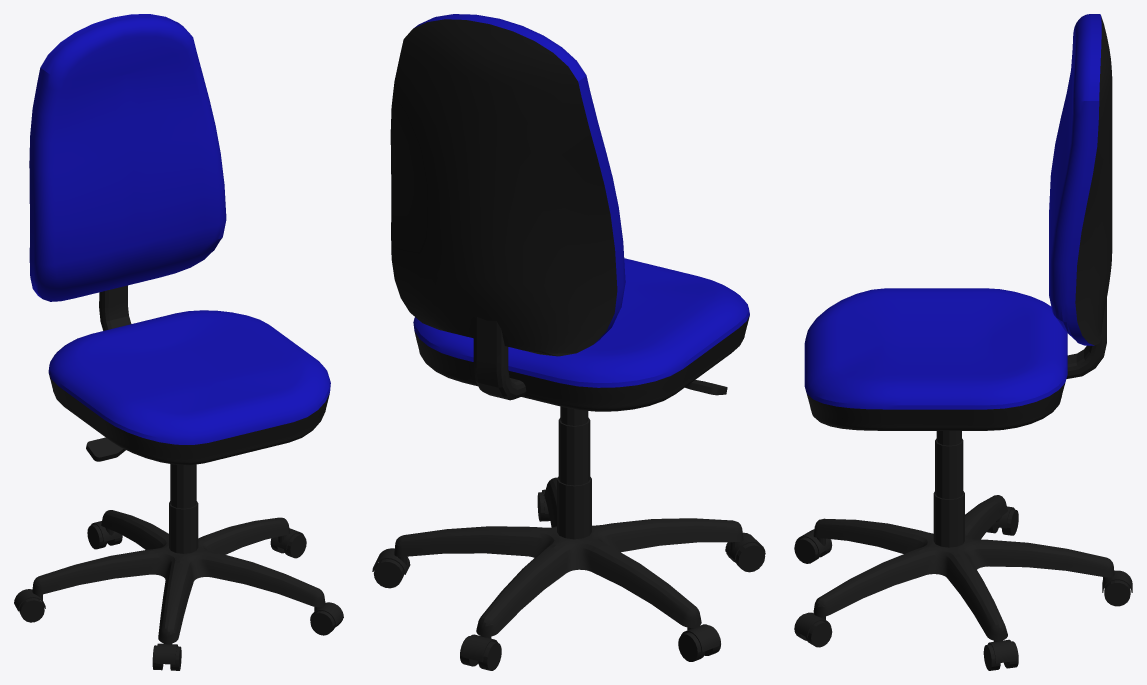
Rendered from krzeslo.fbx.
3 views of the same model, side by side, from view 1: azimuth 30°, elevation 25°; view 2: azimuth 150°, elevation 25°; view 3: azimuth 270°, elevation 25° (orthographic). The views are drawn at different scales.
Parts seen in each view (by area): view 1: kriz1; view 2: kriz1; view 3: kriz1.
Part boxes in pixels (x1,y1,x2,y2): kriz1: (14, 14, 343, 670); kriz1: (372, 14, 765, 670); kriz1: (794, 14, 1132, 670).
Size of the model in its own units: 61.44 by 109 by 58.51.
